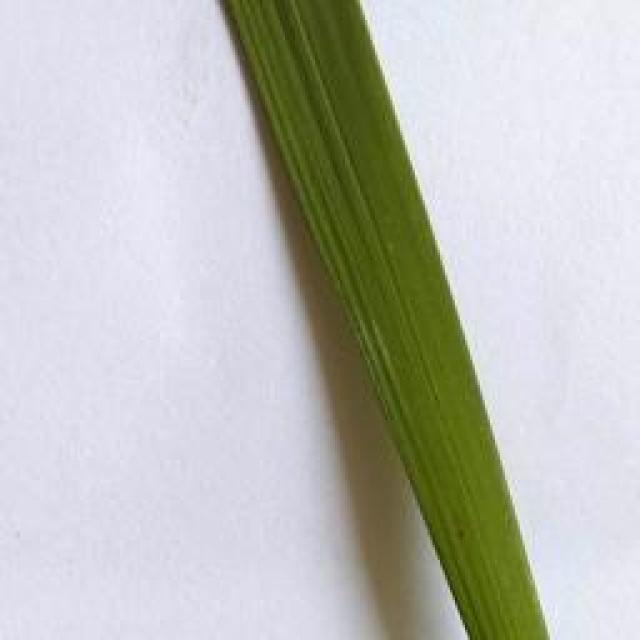Brown_Spot: (456, 525, 471, 542)
